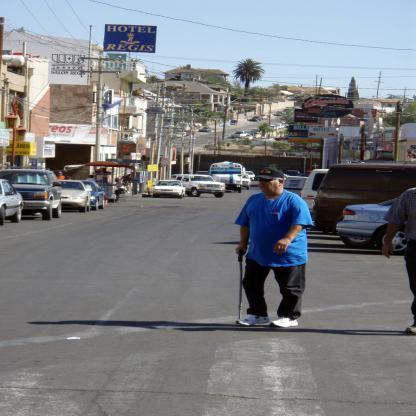car: (310, 160, 416, 230), (336, 200, 415, 249), (0, 166, 66, 223), (174, 173, 228, 200), (303, 169, 330, 216), (0, 177, 27, 222), (57, 178, 92, 210), (80, 178, 108, 208), (152, 179, 188, 196)
